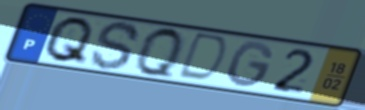2: (271, 48, 315, 97)
D: (174, 31, 232, 85)
G: (225, 40, 277, 90)
Q: (134, 25, 186, 83), (41, 15, 97, 68)
S: (88, 20, 143, 72)
